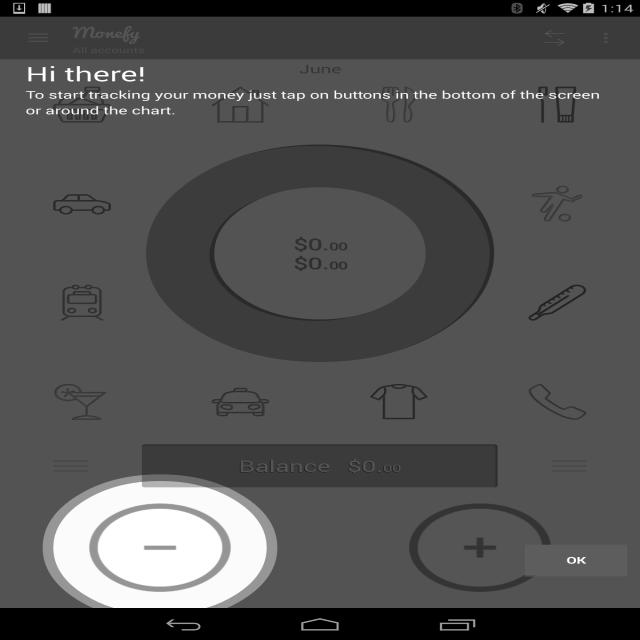Button: (525, 544, 627, 576)
ImageButton: (9, 17, 68, 59)
ImageView: (0, 503, 320, 592), (320, 503, 640, 592), (0, 455, 142, 477), (497, 455, 640, 476)
TextView: (239, 455, 330, 477), (580, 22, 632, 54), (72, 20, 140, 44), (529, 22, 580, 54), (347, 455, 401, 477), (73, 44, 145, 56), (299, 60, 342, 77)
